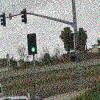traffic lights: (26, 32, 38, 55)
